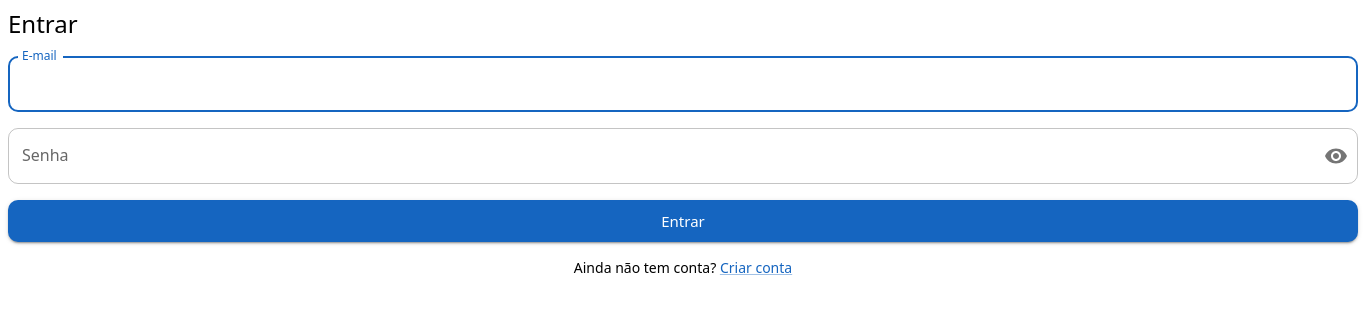
Test case: Login: validação e erros do servidor › 422 do servidor é mostrado junto ao campo certo
Type "ana@example.com" into the field labelled "E-mail".
click(683, 84); type("ana@example.com")  # box [8,56,1358,112]
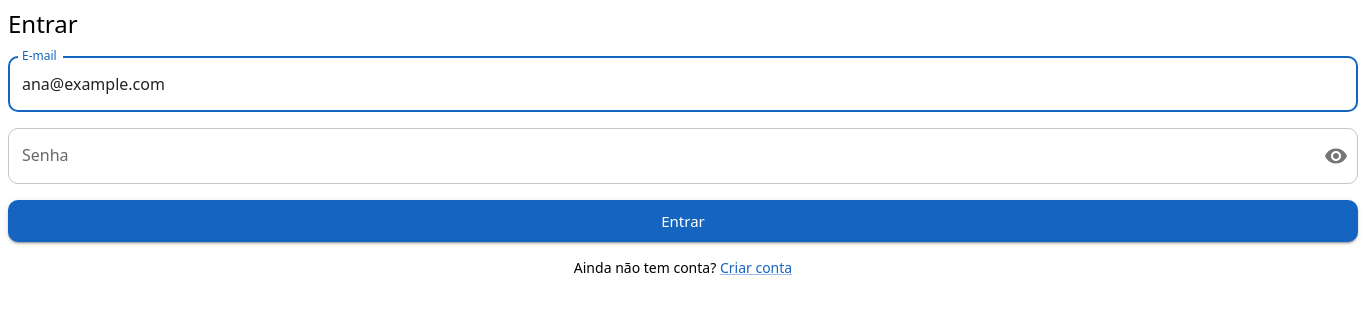
Type "x" into the password field labelled "Senha".
click(658, 156); type("x")  # box [8,128,1308,184]
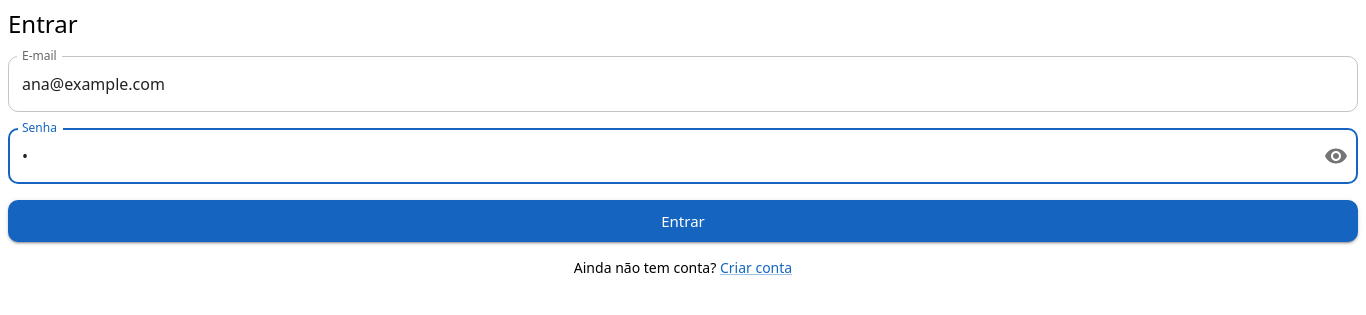
Click the button "Entrar".
click(683, 221)  # box [8,200,1358,242]
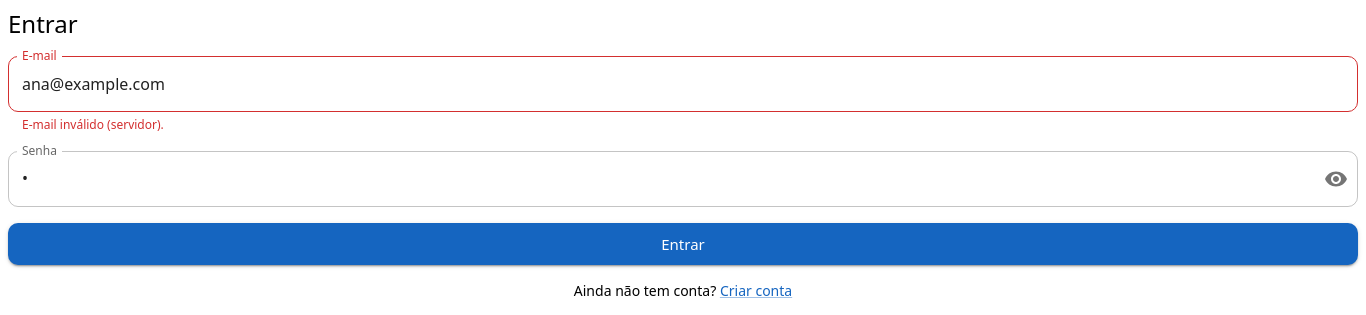
Expected: the text "E-mail inválido (servidor)." is shown, [22,116,164,133]
